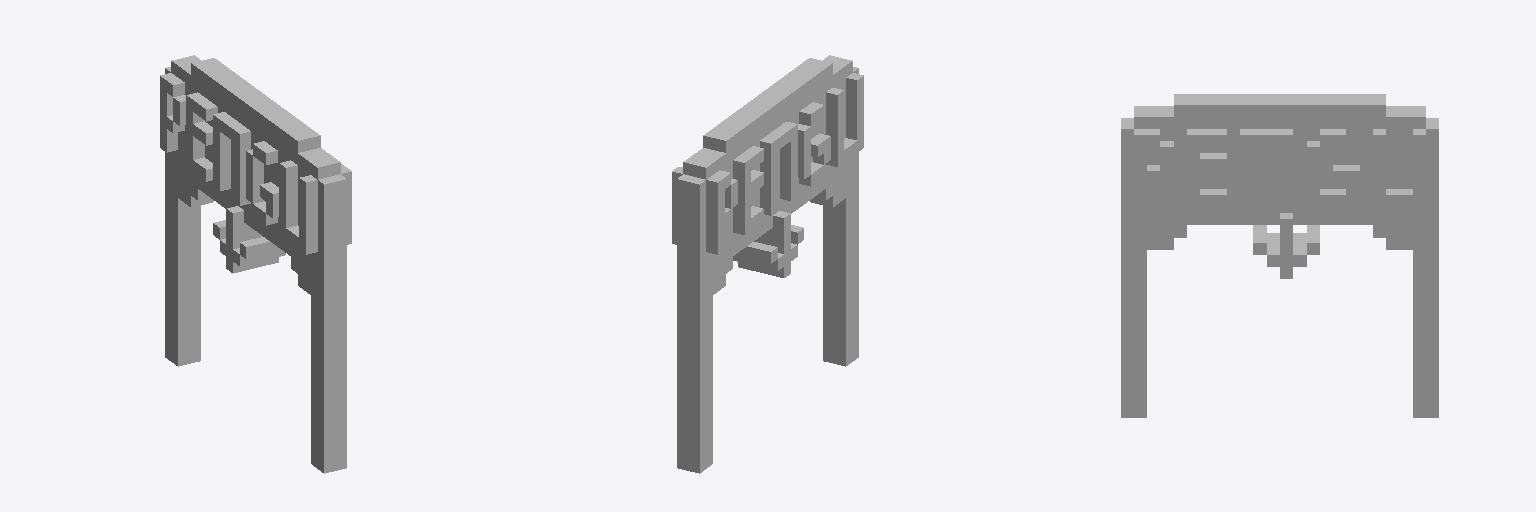
Rendered from Pengu_sign.obj.
The picture shows the model from 3 angles: view 1: azimuth 30°, elevation 25°; view 2: azimuth 150°, elevation 25°; view 3: azimuth 270°, elevation 25°; orthographic projection.
Parts seen in each view (by area): view 1: Pengu sign; view 2: Pengu sign; view 3: Pengu sign.
Part boxes in pixels (bbox=[...]): Pengu sign: bbox=[160, 55, 351, 473]; Pengu sign: bbox=[672, 55, 863, 473]; Pengu sign: bbox=[1121, 94, 1438, 417].
Bounding box in the file's own units: 4 × 26 × 24.